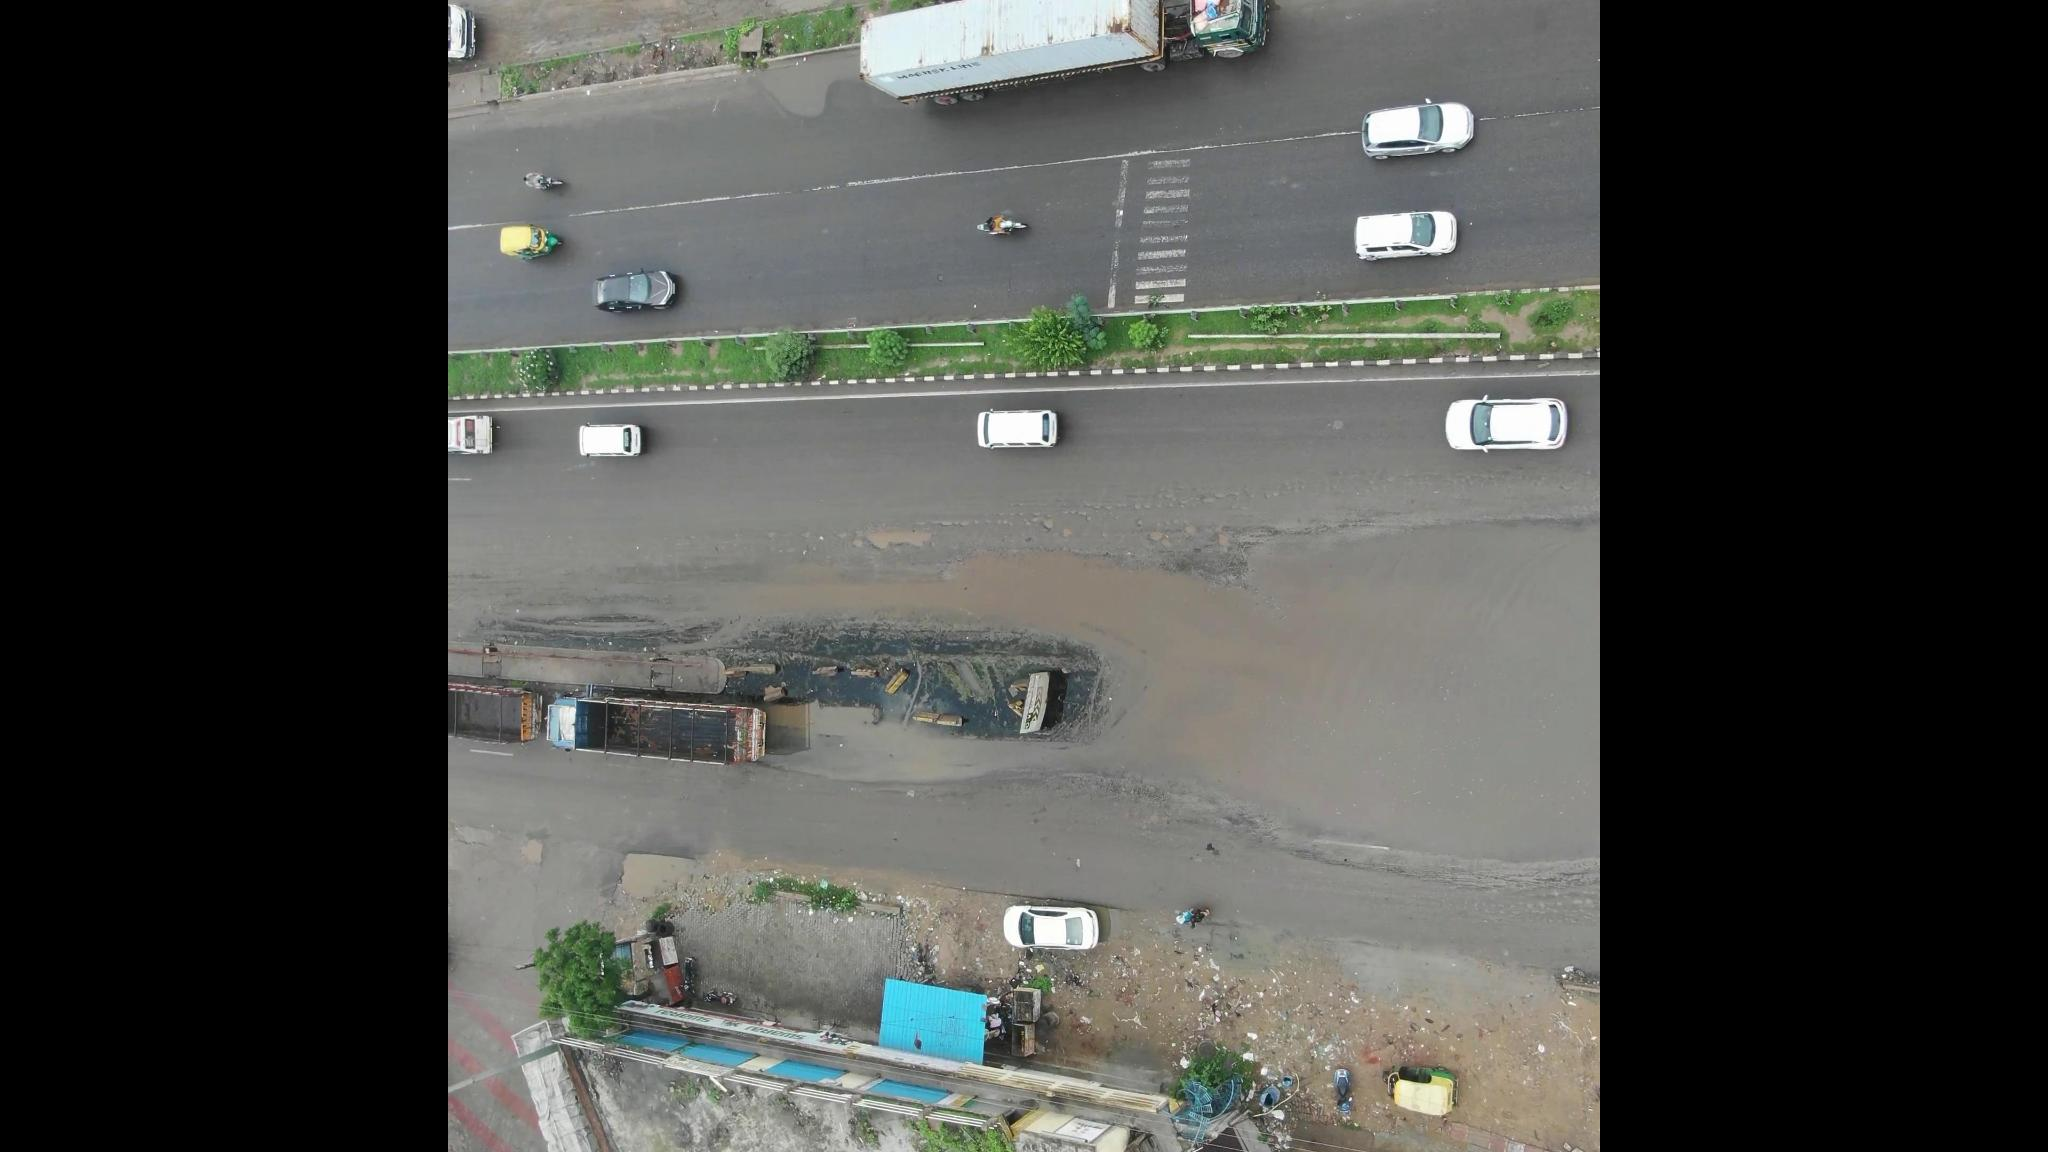Muddy_road: (473, 587, 705, 643), (594, 1, 776, 38)
Potholes: (1018, 488, 1221, 561), (776, 512, 959, 558), (1224, 459, 1371, 512), (1471, 878, 1596, 924), (1378, 461, 1526, 489), (452, 809, 502, 868), (518, 814, 558, 875), (1252, 162, 1311, 203), (1312, 409, 1364, 442), (931, 259, 951, 287)
Waterlogging: (966, 527, 1587, 859), (713, 58, 857, 132)
